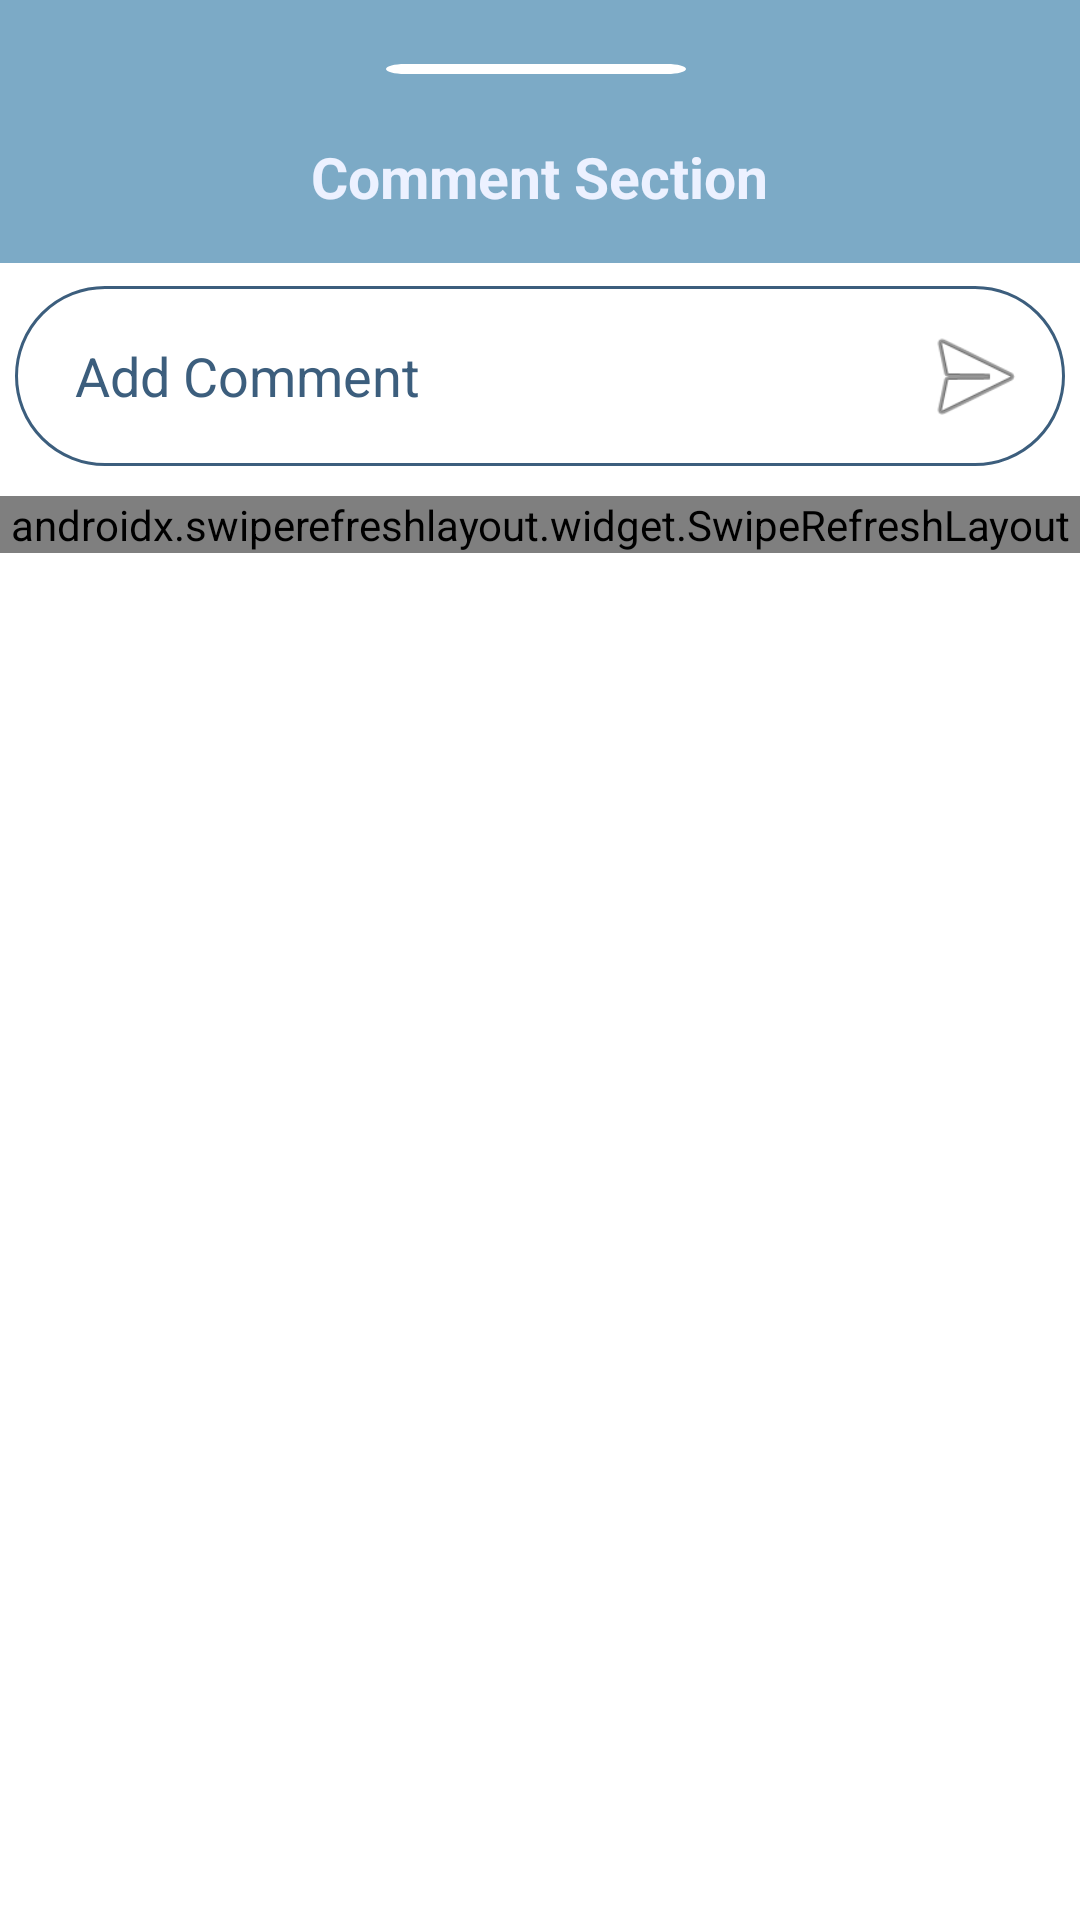

Icon click points for this 1080×1920 phone screenshot, format (x=x, y=y):
send: (x=976, y=377)
